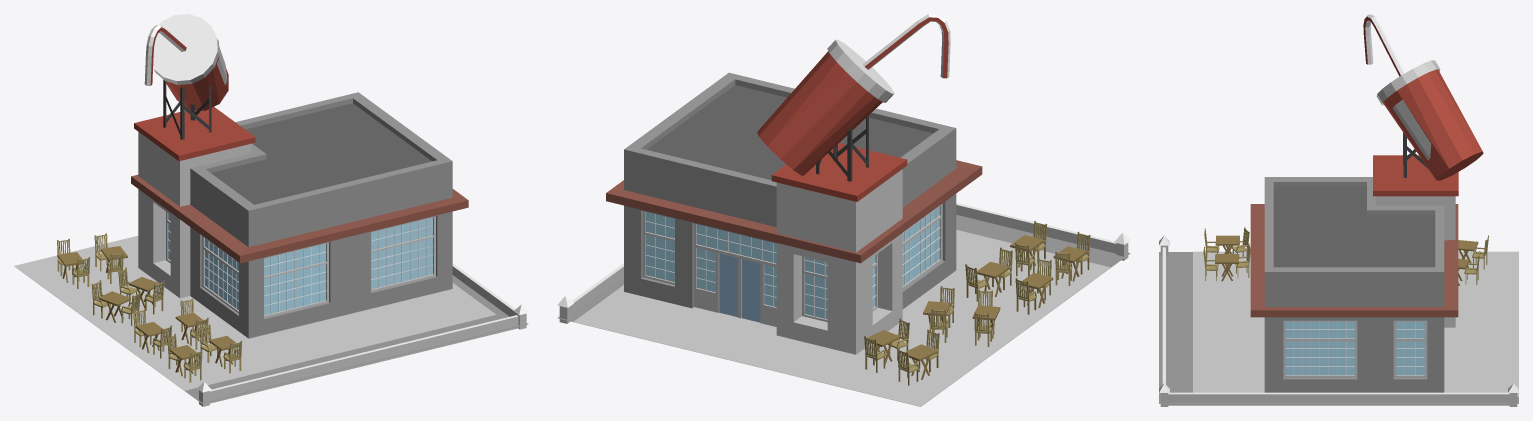
The model's file is office3-transformed.glb.
3 views of the same model, side by side, from view 1: azimuth 30°, elevation 25°; view 2: azimuth 150°, elevation 25°; view 3: azimuth 270°, elevation 25° (orthographic). The views are drawn at different scales.
Parts seen in each view (by area): view 1: city_private_houses.901; view 2: city_private_houses.901; view 3: city_private_houses.901.
Part boxes in pixels (left/top/right/bottom): city_private_houses.901: left=14, top=14, right=528, bottom=406; city_private_houses.901: left=557, top=14, right=1130, bottom=406; city_private_houses.901: left=1159, top=14, right=1518, bottom=406.
Bounding box in the file's own units: 16.01 × 13.31 × 16.01.
Materials: 1 (1 with a texture image).
